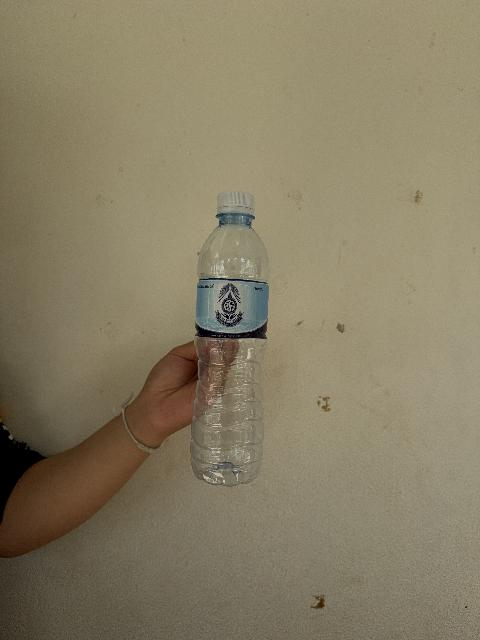bottle: (190, 192, 268, 486)
